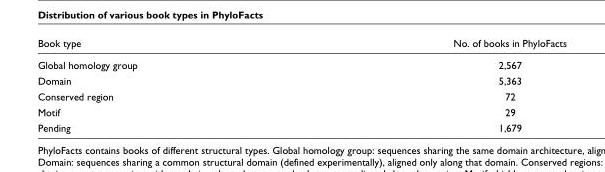table: (36, 36, 566, 133)
table column: (294, 36, 566, 133), (36, 36, 294, 133)
table column header: (36, 36, 566, 53)
table row: (36, 53, 566, 72), (36, 36, 566, 53), (36, 72, 566, 88), (36, 103, 566, 119), (36, 88, 566, 103), (36, 119, 566, 133)
